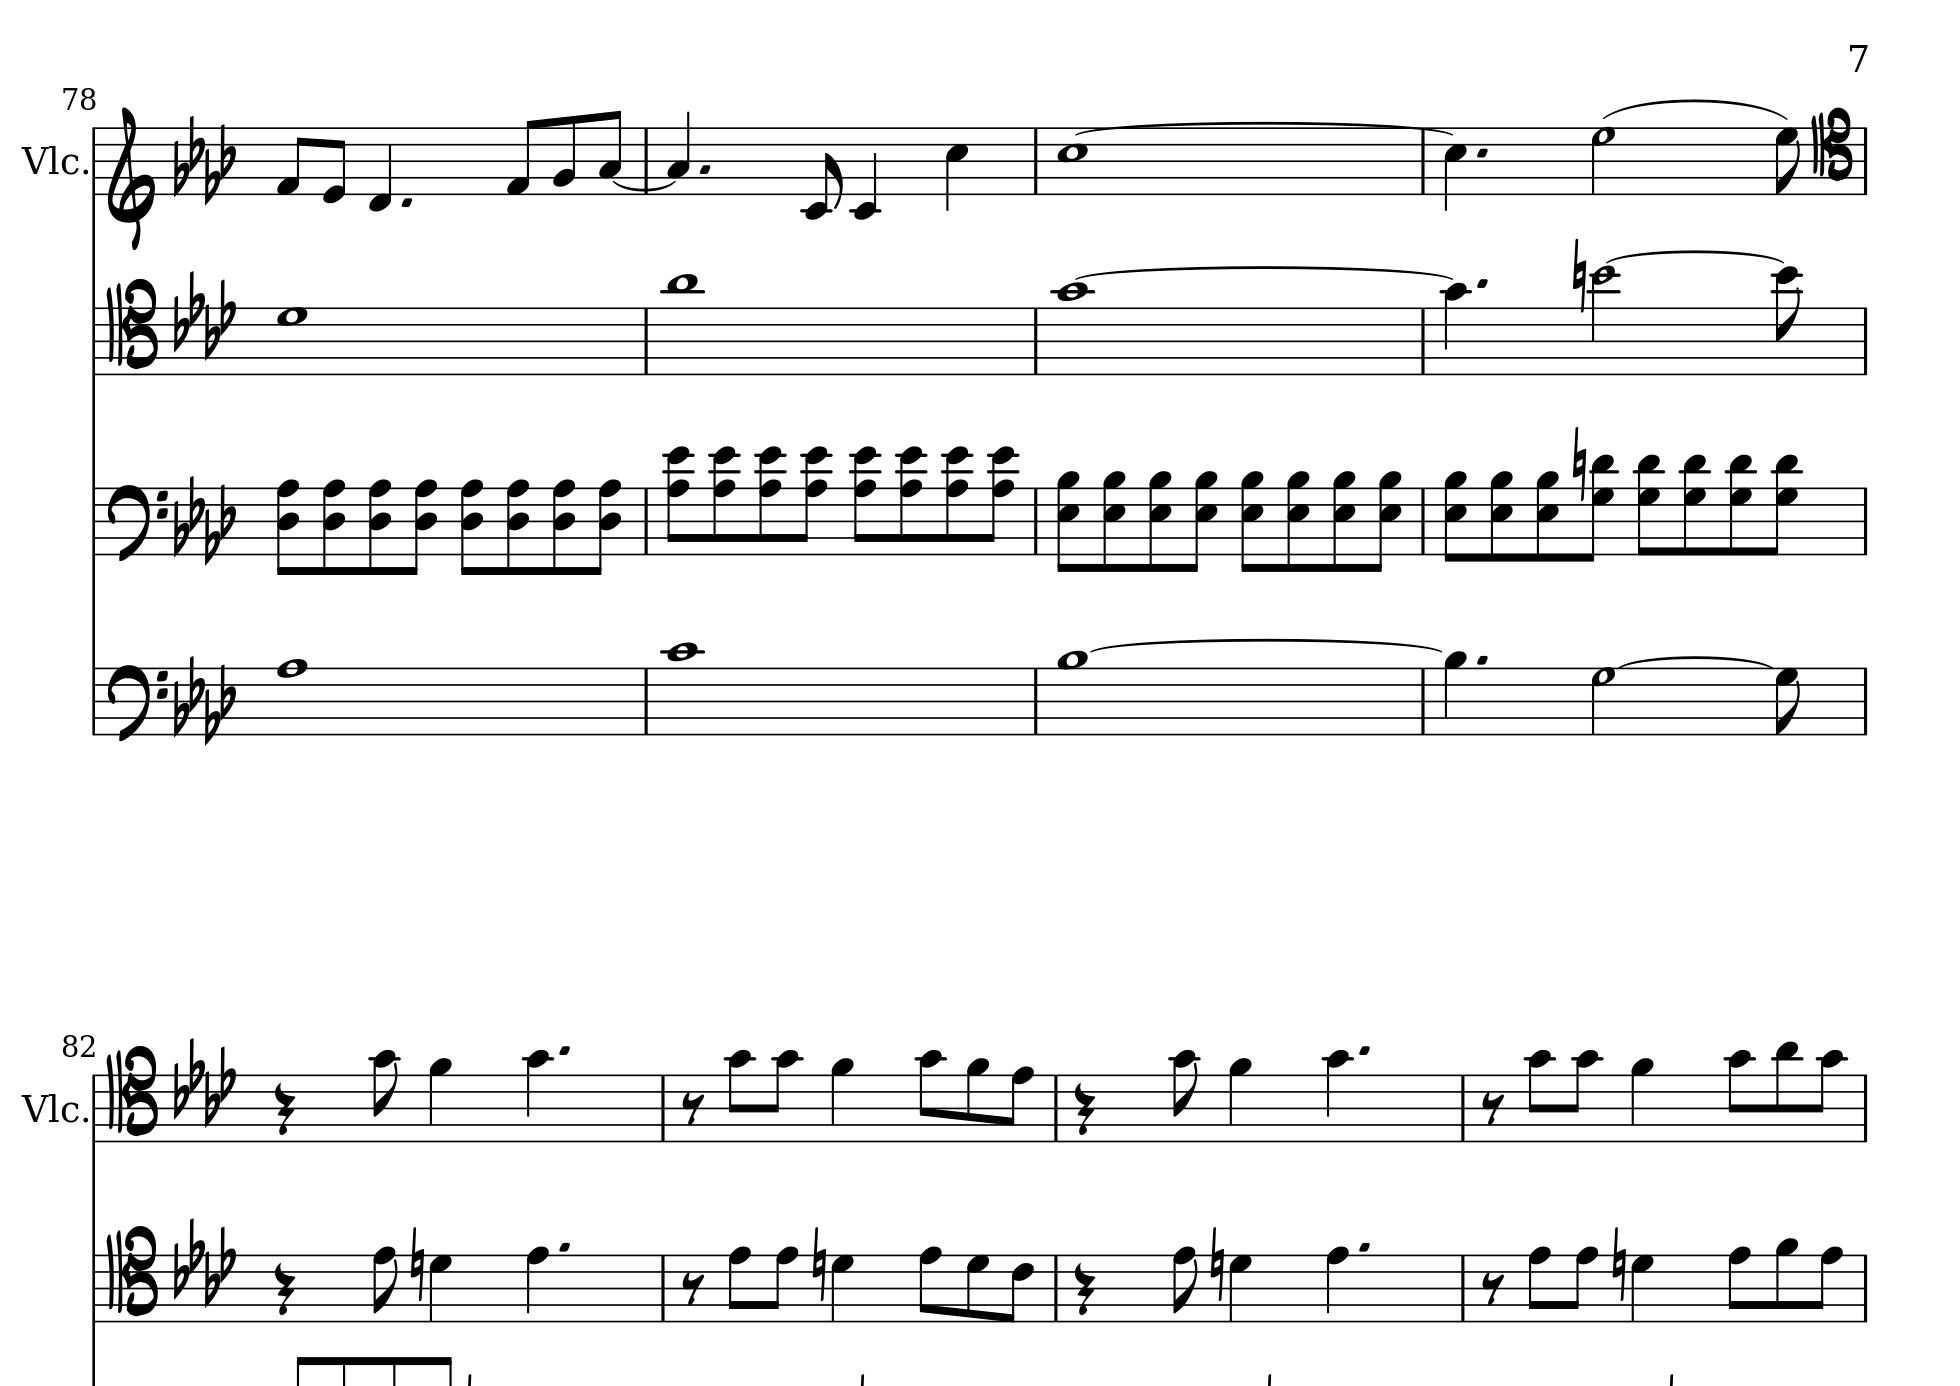1_10: (1054, 280, 1092, 376), (664, 640, 700, 738)
1_12: (664, 271, 702, 376)
1_5: (1056, 124, 1089, 196)
1_8: (276, 655, 309, 739)
1_9: (1056, 648, 1090, 736)
2: (78, 1032, 96, 1057)
2_12: (1590, 264, 1620, 378)
2_7: (1590, 124, 1617, 198), (1590, 664, 1617, 736)
4_-2: (850, 124, 879, 222)
4_10: (1443, 280, 1470, 378), (523, 1047, 550, 1144), (1324, 1048, 1351, 1144)
4_3: (666, 109, 691, 196)
4_5: (943, 124, 970, 213), (1443, 124, 1468, 213)
4_7: (1227, 1252, 1254, 1323), (427, 1252, 453, 1323), (829, 1252, 855, 1323), (1630, 1252, 1656, 1323)
4_8: (523, 1243, 550, 1324), (1324, 1243, 1350, 1324)
4_9: (1227, 1056, 1254, 1144), (829, 1054, 855, 1144), (427, 1056, 453, 1144), (1629, 1056, 1654, 1144), (1443, 649, 1468, 736)
7: (1848, 39, 1870, 72), (61, 84, 78, 112)
8: (79, 84, 97, 111), (60, 1032, 78, 1057)
8_-1: (364, 124, 394, 213)
8_-2: (799, 124, 844, 220)
8_0: (319, 124, 348, 205)
8_1: (505, 117, 538, 196), (274, 124, 307, 196)
8_10: (1812, 1047, 1846, 1144), (766, 1047, 799, 1143), (1567, 1047, 1600, 1143), (370, 1048, 400, 1144), (726, 1047, 754, 1144), (1171, 1048, 1200, 1144), (1726, 1047, 1755, 1143), (916, 1047, 943, 1144), (1527, 1048, 1554, 1143)
8_11: (1773, 1038, 1801, 1144)
8_12: (1773, 265, 1803, 376)
8_2: (550, 115, 577, 196)
8_3: (597, 108, 622, 196)
8_4_8: (585, 475, 621, 574), (405, 475, 438, 574), (274, 478, 300, 577), (366, 475, 391, 574), (459, 477, 484, 576), (550, 475, 576, 574), (322, 478, 346, 577), (505, 475, 529, 574)
8_5_9: (1186, 468, 1219, 571), (1372, 468, 1405, 571), (1486, 463, 1515, 564), (1531, 466, 1560, 567), (1056, 469, 1083, 574), (1102, 469, 1129, 574), (1146, 466, 1173, 571), (1237, 469, 1264, 574), (1284, 469, 1311, 574), (1329, 469, 1356, 574), (1443, 466, 1470, 565)
8_6: (1003, 1252, 1035, 1324)
8_7: (276, 304, 309, 376), (1774, 664, 1806, 738), (1774, 124, 1801, 196), (964, 1252, 990, 1323)
8_7_11: (1633, 451, 1668, 562), (1587, 453, 1620, 564), (1680, 450, 1713, 561), (1725, 450, 1758, 561), (1770, 448, 1803, 559)
8_8: (1812, 1243, 1845, 1324), (1002, 1065, 1035, 1144), (1566, 1245, 1599, 1324), (766, 1245, 798, 1324), (1170, 1246, 1198, 1324), (370, 1245, 397, 1324), (726, 1243, 751, 1324), (916, 1243, 942, 1324), (1726, 1243, 1752, 1324), (1527, 1245, 1552, 1324)
8_8_12: (753, 444, 787, 556), (847, 444, 882, 556), (894, 442, 928, 555), (985, 442, 1020, 555), (660, 445, 694, 556), (706, 445, 741, 556), (798, 445, 832, 556), (940, 444, 973, 556)
8_9: (964, 1056, 990, 1144), (1774, 1236, 1800, 1324)
A_F: (172, 268, 235, 361), (171, 652, 235, 742), (172, 112, 235, 204), (172, 472, 235, 564), (172, 1215, 235, 1306), (172, 1036, 235, 1126)
Fclef: (106, 481, 168, 562), (106, 661, 168, 742)
Gclef: (106, 103, 157, 250)
Natural: (1569, 423, 1590, 504), (1570, 234, 1590, 315), (406, 1225, 426, 1303), (1609, 1225, 1627, 1303), (810, 1225, 826, 1303), (1209, 1225, 1225, 1303)
Rests4: (271, 1258, 295, 1317), (1072, 1260, 1096, 1318), (271, 1080, 295, 1137), (1072, 1080, 1096, 1137)
Rests8: (1479, 1270, 1506, 1306), (679, 1090, 705, 1126), (1480, 1090, 1506, 1126), (679, 1270, 705, 1306)
Single_barline: (637, 667, 655, 735), (1026, 667, 1044, 733), (1414, 307, 1432, 372), (1414, 130, 1432, 193), (85, 667, 102, 735), (1048, 1074, 1065, 1141), (1857, 1074, 1873, 1141), (1857, 1254, 1873, 1321), (1027, 127, 1044, 193), (637, 307, 654, 373), (1027, 307, 1044, 373), (85, 487, 102, 553), (637, 487, 654, 553), (1858, 487, 1875, 553), (1027, 487, 1044, 553), (1048, 1254, 1065, 1320), (1416, 669, 1432, 733), (654, 1075, 670, 1138), (1455, 1075, 1471, 1138), (654, 1255, 670, 1318), (1455, 1255, 1471, 1318), (637, 127, 652, 192), (1858, 127, 1873, 192), (1416, 487, 1431, 552), (1858, 667, 1873, 730), (87, 307, 100, 375), (87, 1254, 100, 1321), (88, 126, 100, 196), (88, 1072, 100, 1141)
Slur: (1074, 115, 1458, 136), (1083, 636, 1449, 654), (1080, 264, 1461, 280), (1597, 99, 1791, 121), (1608, 247, 1794, 265), (1617, 652, 1771, 670), (616, 178, 678, 190)
Tensor_Cclef: (103, 277, 157, 376), (105, 1045, 157, 1144), (105, 1224, 157, 1323), (1810, 106, 1854, 196)
Vla: (22, 1087, 79, 1129)
Vln: (22, 139, 76, 180)
dot: (1474, 274, 1491, 292), (1356, 1042, 1374, 1059), (1474, 144, 1491, 160), (556, 1042, 573, 1059), (397, 193, 415, 208), (694, 162, 712, 175), (1356, 1239, 1372, 1252), (1474, 652, 1489, 666)
